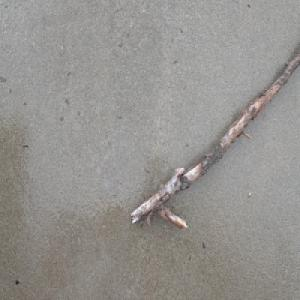Wood: (128, 50, 300, 231)
